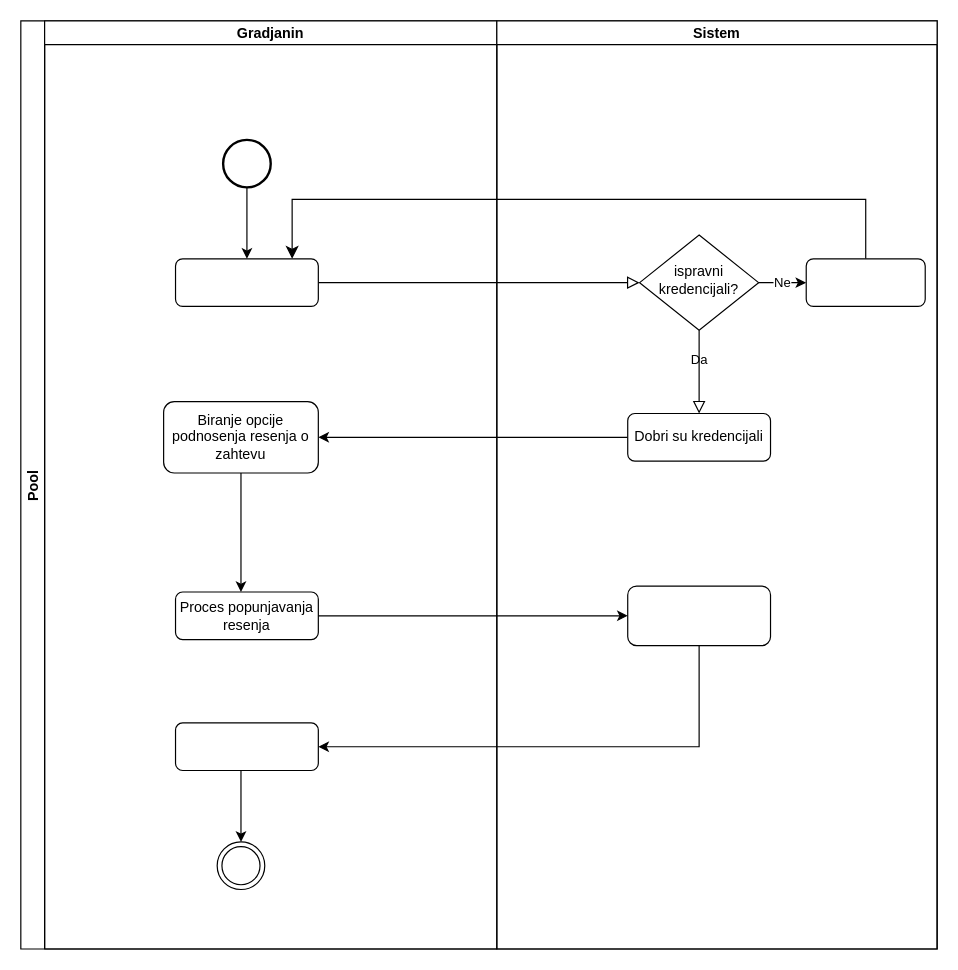
Some shapes in this 958 by 970 pixel diagram are drawn without their labels. Each missing label, with the centre of its shape:
Nisu ispravni kredencijali: the point at 865,282
Potvrda: the point at 246,746
Prijava na sistem: the point at 246,282
Validacija unetih podataka: the point at 699,615
